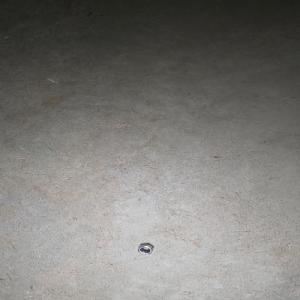Nut: (136, 241, 154, 252)
